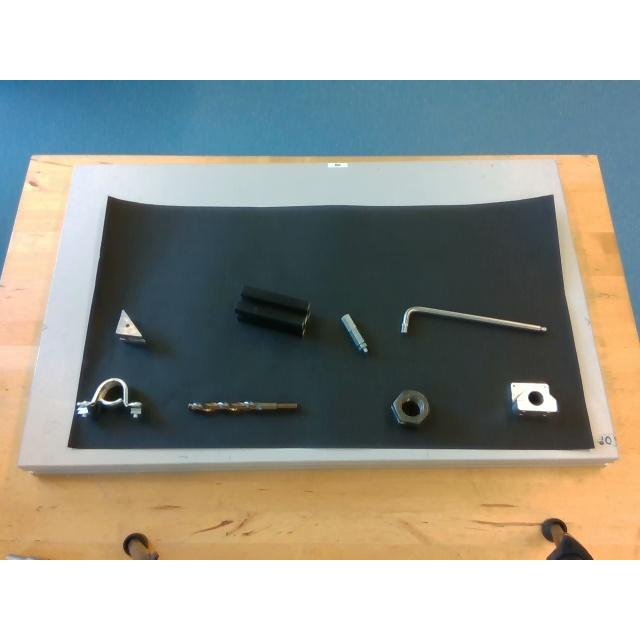AllenKey: (401, 306, 547, 336)
Drill: (189, 400, 299, 414)
Housing: (76, 376, 142, 416)
M30: (390, 388, 430, 424)
S40_40_B: (235, 286, 309, 334)
